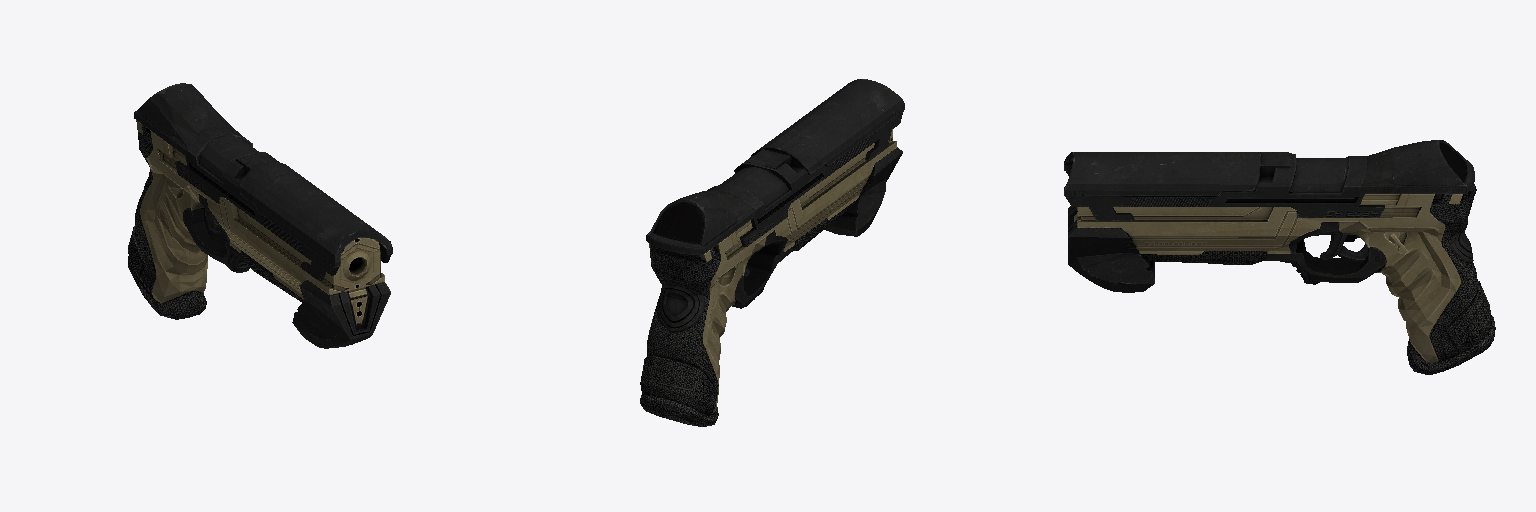
3 views of the same model, side by side, from view 1: azimuth 30°, elevation 25°; view 2: azimuth 150°, elevation 25°; view 3: azimuth 270°, elevation 25° (orthographic).
Visible parts, largest first — view 1: 2916c160_obj; view 2: 2916c160_obj; view 3: 2916c160_obj.
Part boxes in pixels (left/top/right/bottom): 2916c160_obj: left=128, top=83, right=392, bottom=348; 2916c160_obj: left=640, top=79, right=904, bottom=426; 2916c160_obj: left=1064, top=140, right=1495, bottom=374.
Size of the model in its own units: 0.1442 by 0.4977 by 0.854.
1 materials, 1 textured.